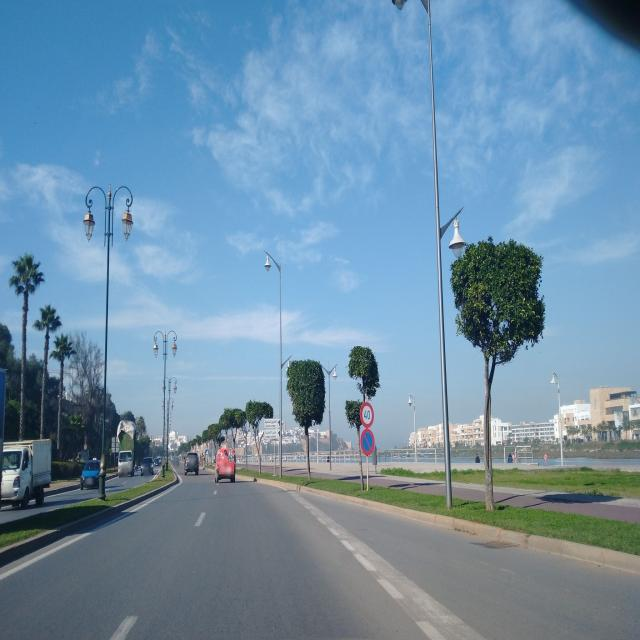forb_stopping: (359, 427, 375, 456)
